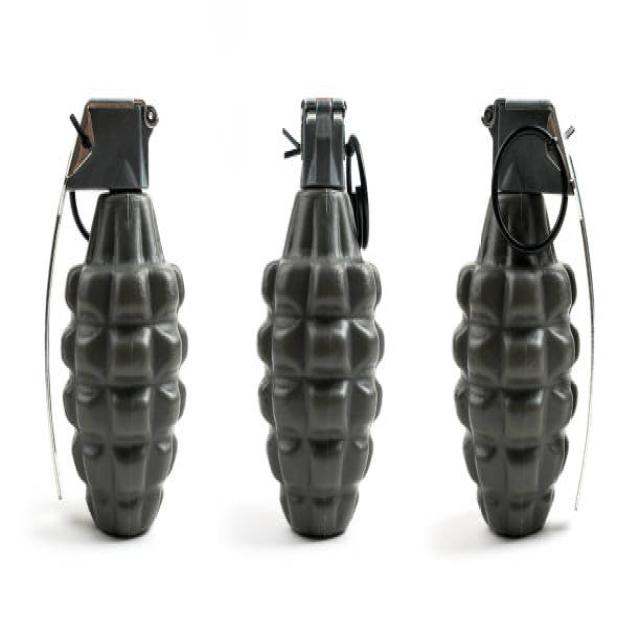grenade: (443, 86, 611, 548), (38, 83, 196, 547), (253, 84, 391, 551)
